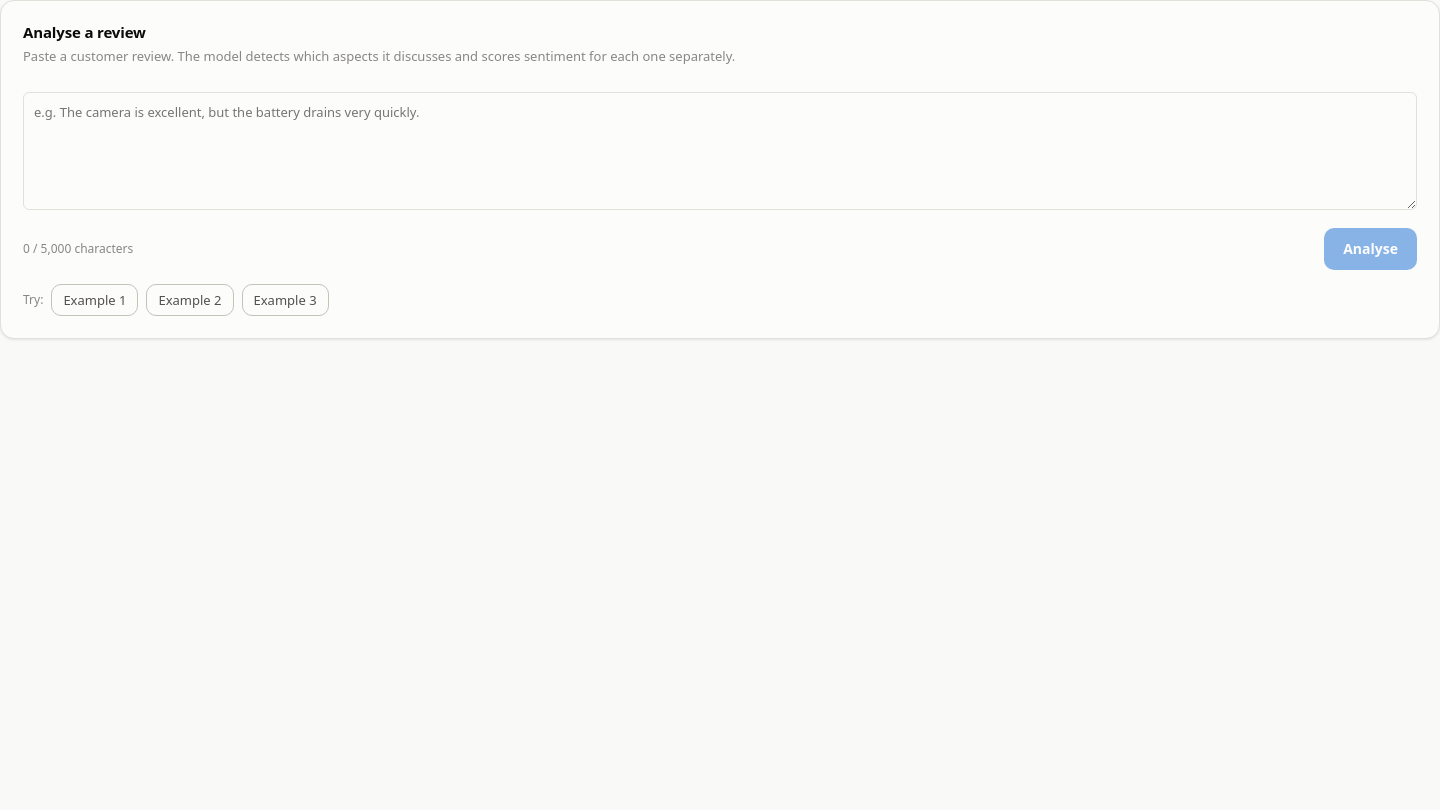
Scenario: error states › clears a previous error on a successful retry
The width and height of the screenshot is (1440, 810).
In the text box named "review text": point(720, 151) [23, 92, 1417, 210], type "Great camera"
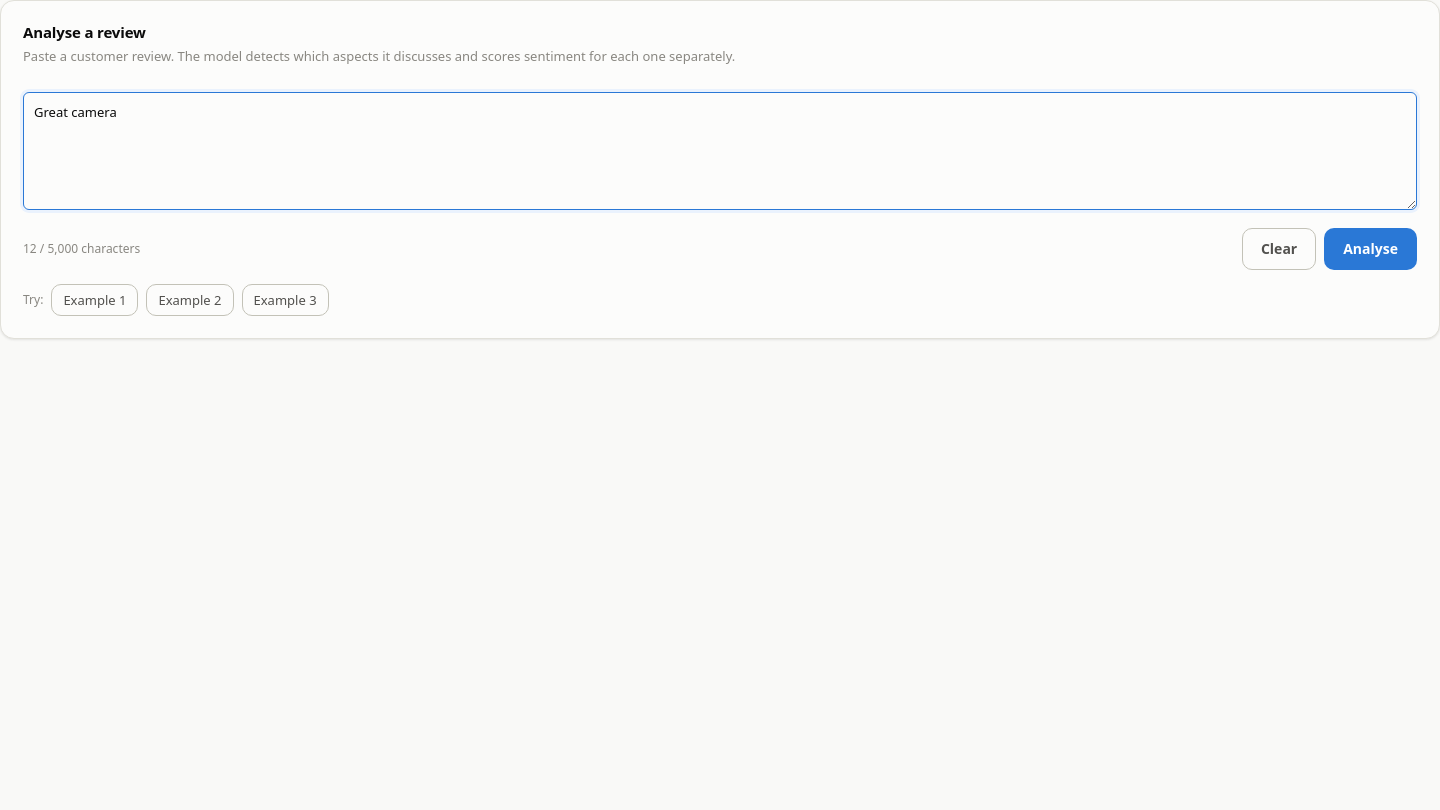
Click the button "Analyse": point(1371, 249) [1324, 228, 1417, 270]
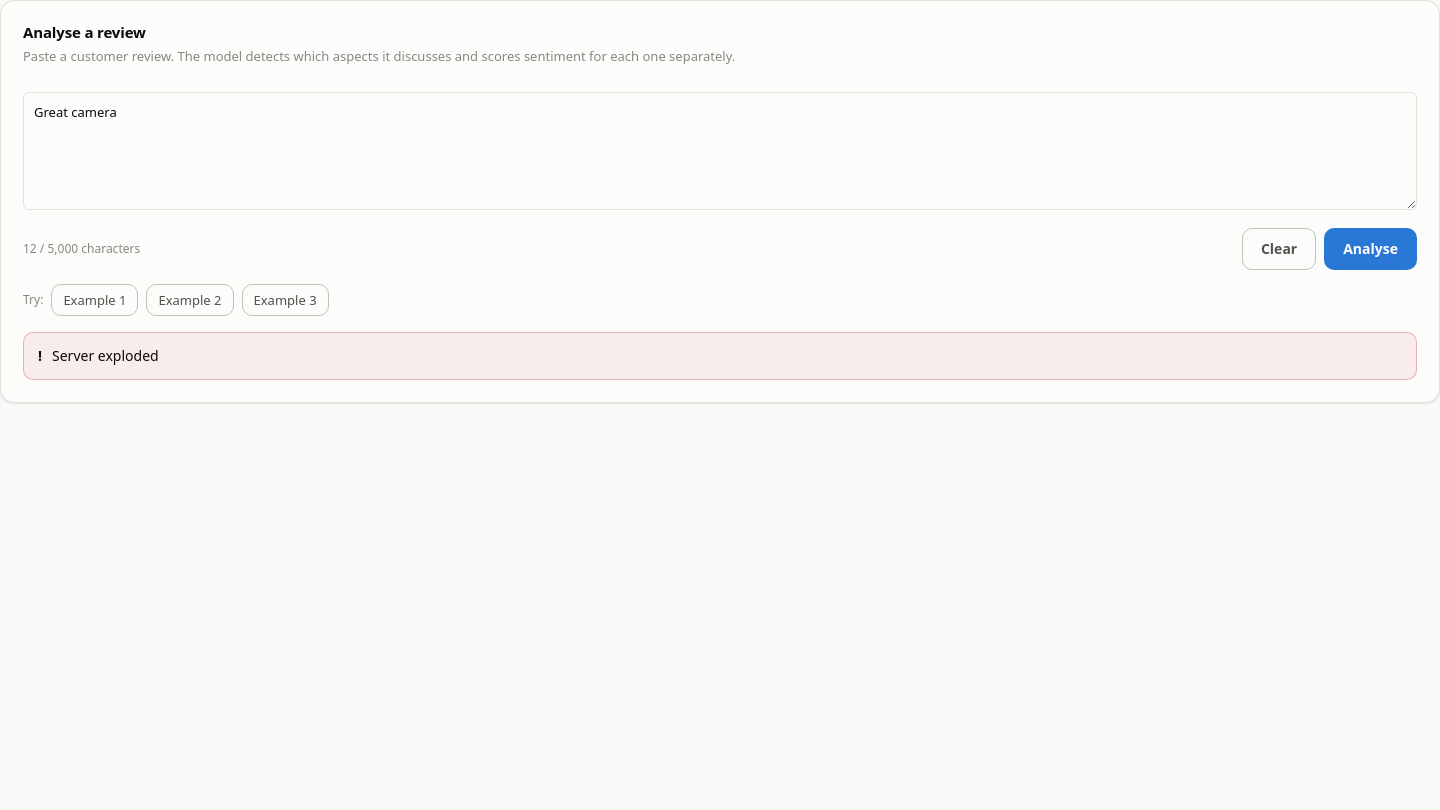
Result: the message "! Server exploded" is shown at [23, 332, 1417, 380]
Click the button "Analyse": point(1371, 249) [1324, 228, 1417, 270]
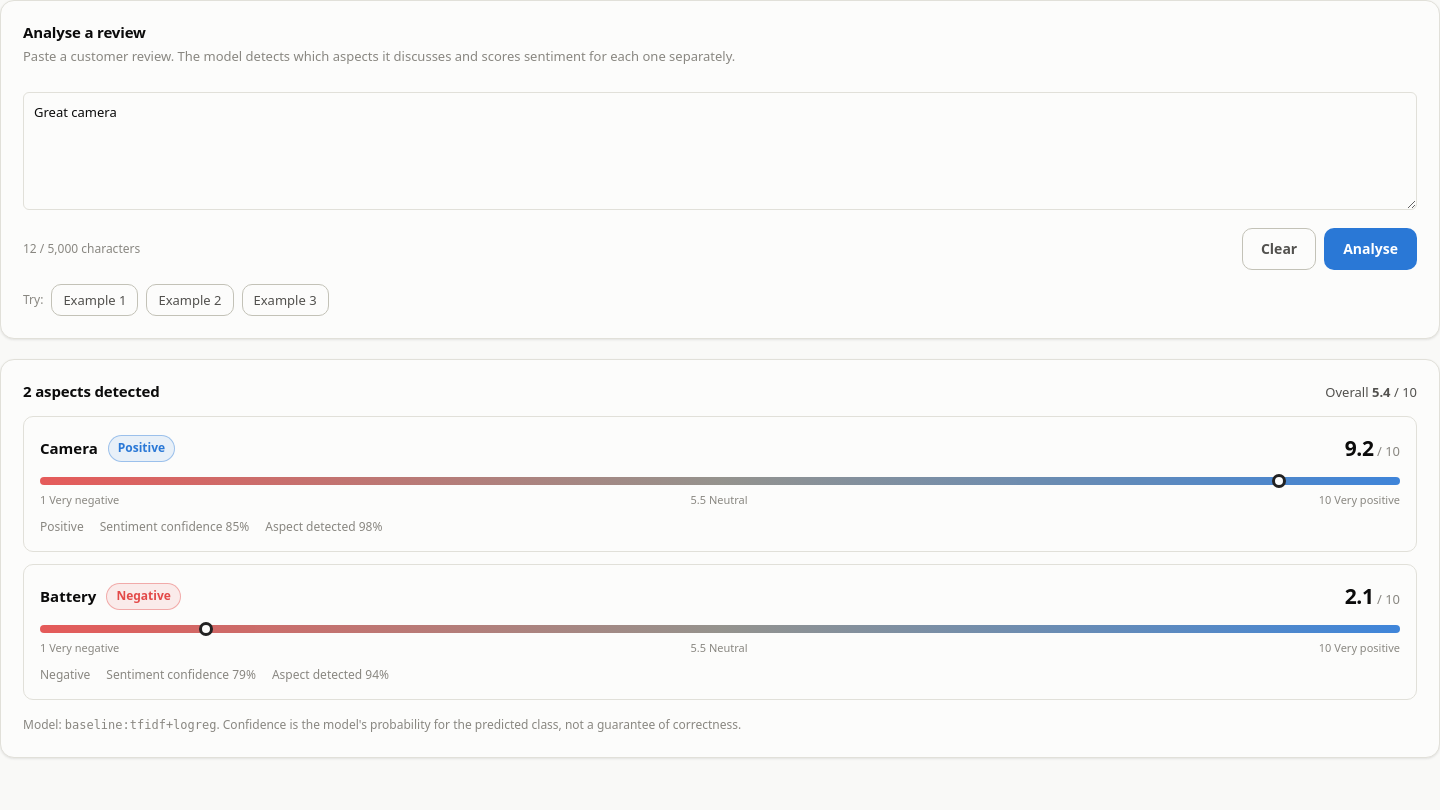
Result: the message "! Server exploded" is gone
Result: the text "Camera" is shown at [40, 437, 98, 460]
